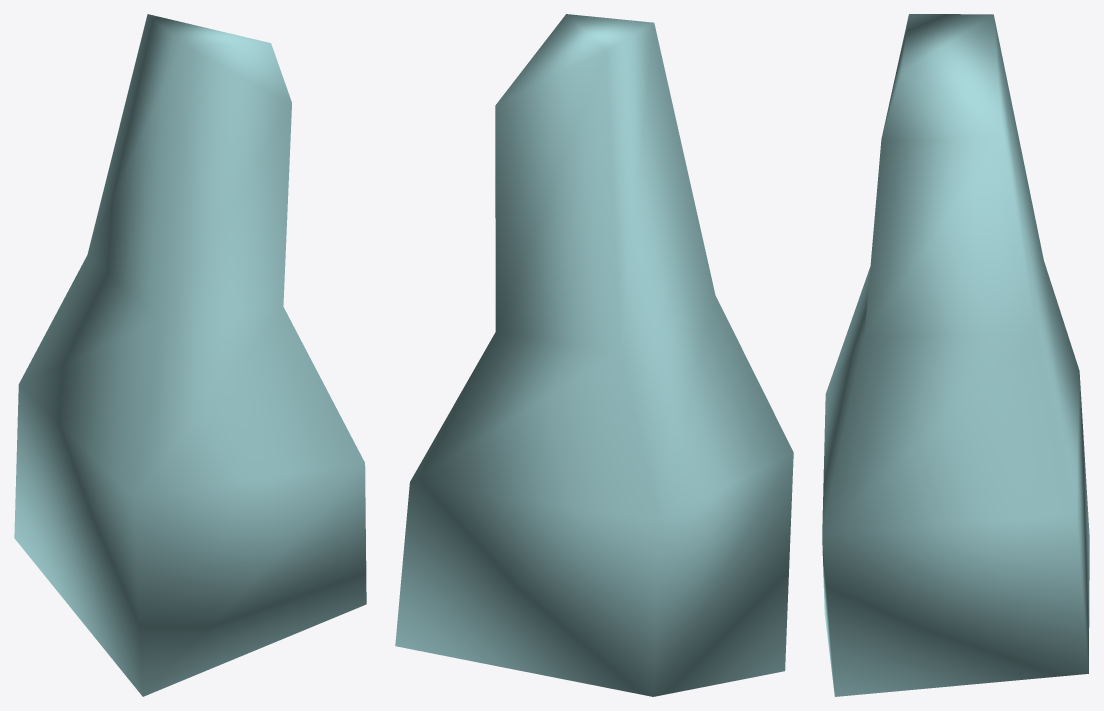
File: Skelly_f_pinky.03.L.fbx
The picture shows the model from 3 angles, left to right: view 1: azimuth 30°, elevation 25°; view 2: azimuth 150°, elevation 25°; view 3: azimuth 270°, elevation 25°; orthographic projection. The views are drawn at different scales.
Parts seen in each view (by area): view 1: Skelly_f_pinky.03.L; view 2: Skelly_f_pinky.03.L; view 3: Skelly_f_pinky.03.L.
Boxes of the visible parts, x1,y1,x2,y2 form: Skelly_f_pinky.03.L: (14,14,366,696); Skelly_f_pinky.03.L: (395,14,793,696); Skelly_f_pinky.03.L: (822,14,1089,696).
Size of the model in its own units: 0.9192 by 2.2 by 0.831.
